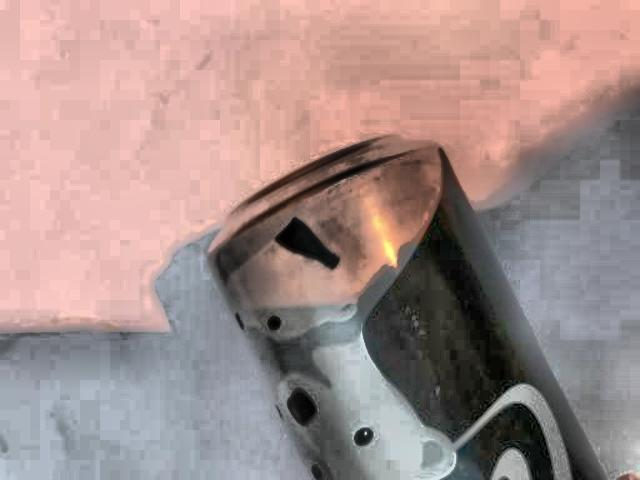Bottles: (201, 111, 618, 480)
